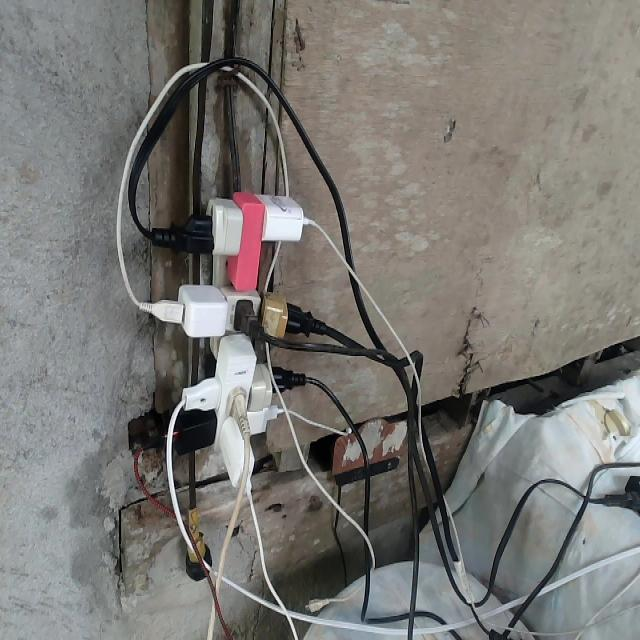-: (136, 189, 326, 495)
